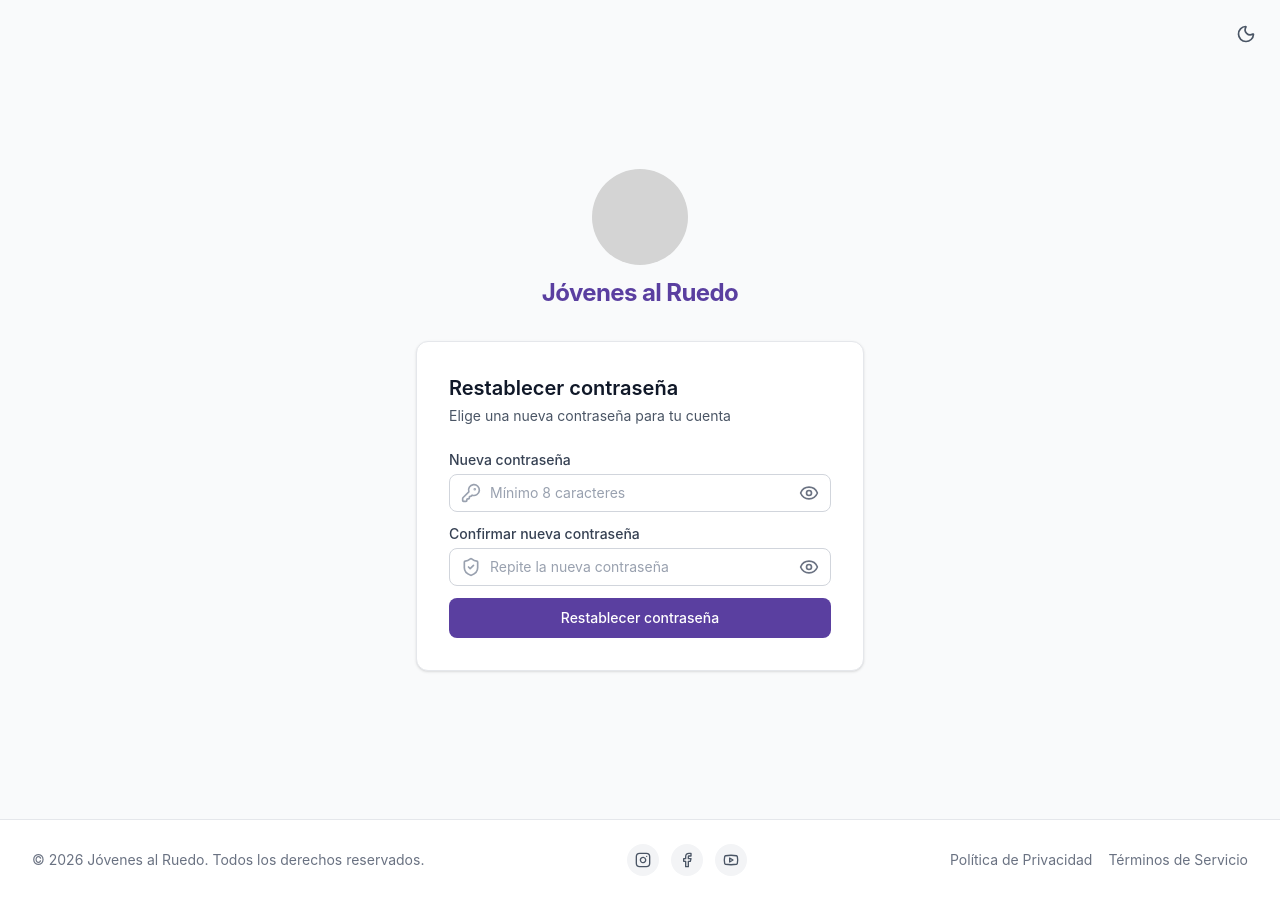
Test case: ResetPasswordPage › muestra error si las contraseñas no coinciden
Type "NewPass1!" into the password field labelled "Nueva contraseña" at (640, 492), box [449, 474, 831, 512]
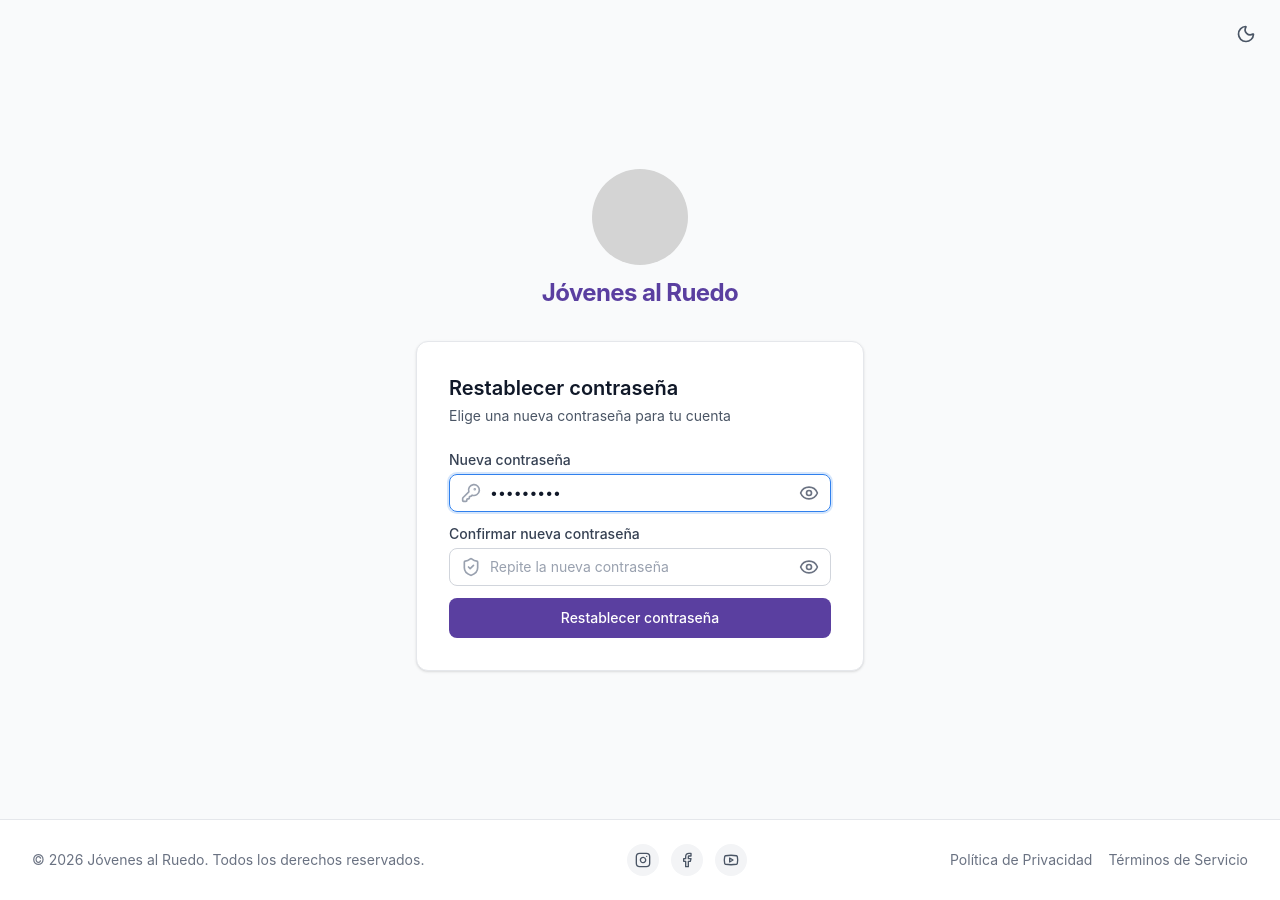
Type "Different1" into the password field labelled "Confirmar nueva contraseña" at (640, 566), box [449, 548, 831, 586]
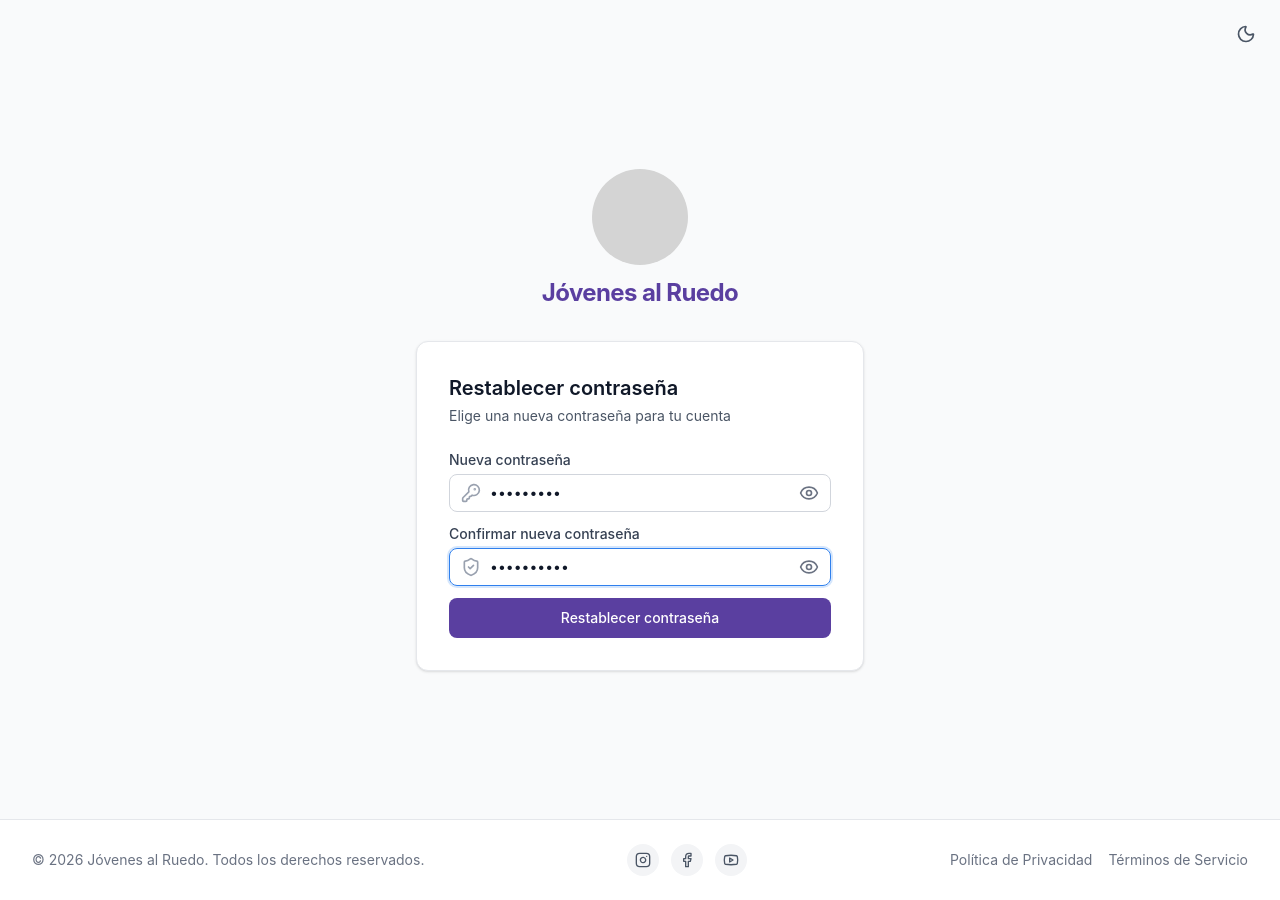
Click the button "Restablecer contraseña" at (640, 618), box [449, 598, 831, 638]
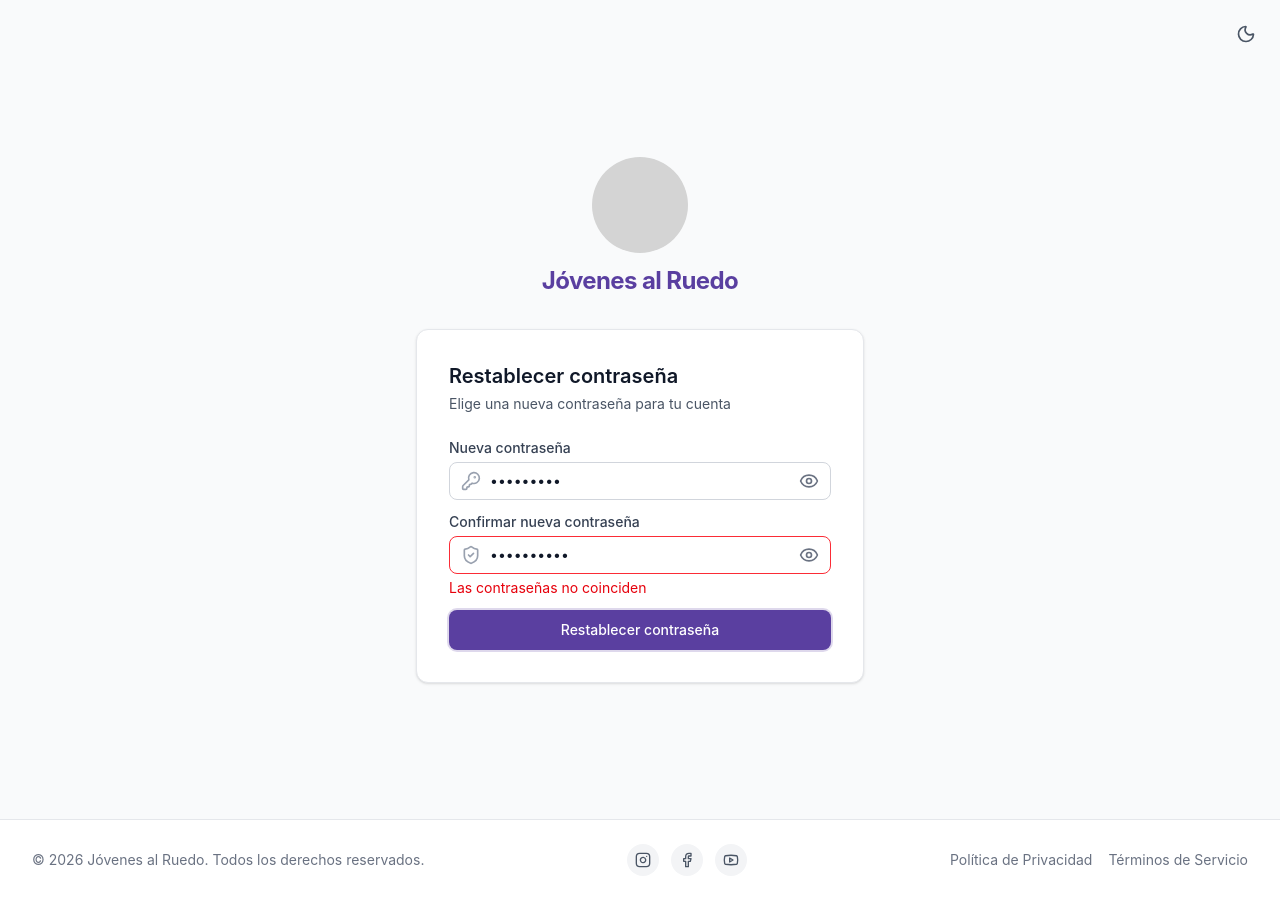
Expected: the text "Las contraseñas no coinciden" is shown, [449, 578, 646, 596]
